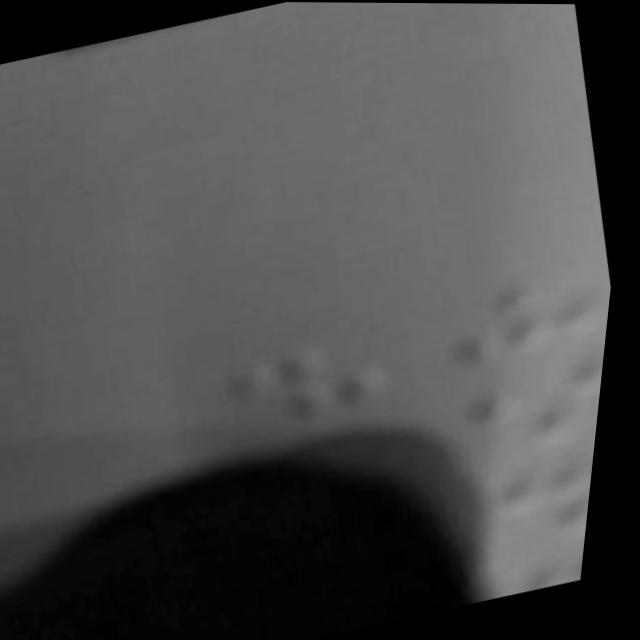braiile: (217, 325, 418, 444), (435, 254, 620, 376), (460, 350, 612, 476), (486, 443, 604, 557), (512, 532, 597, 595)
